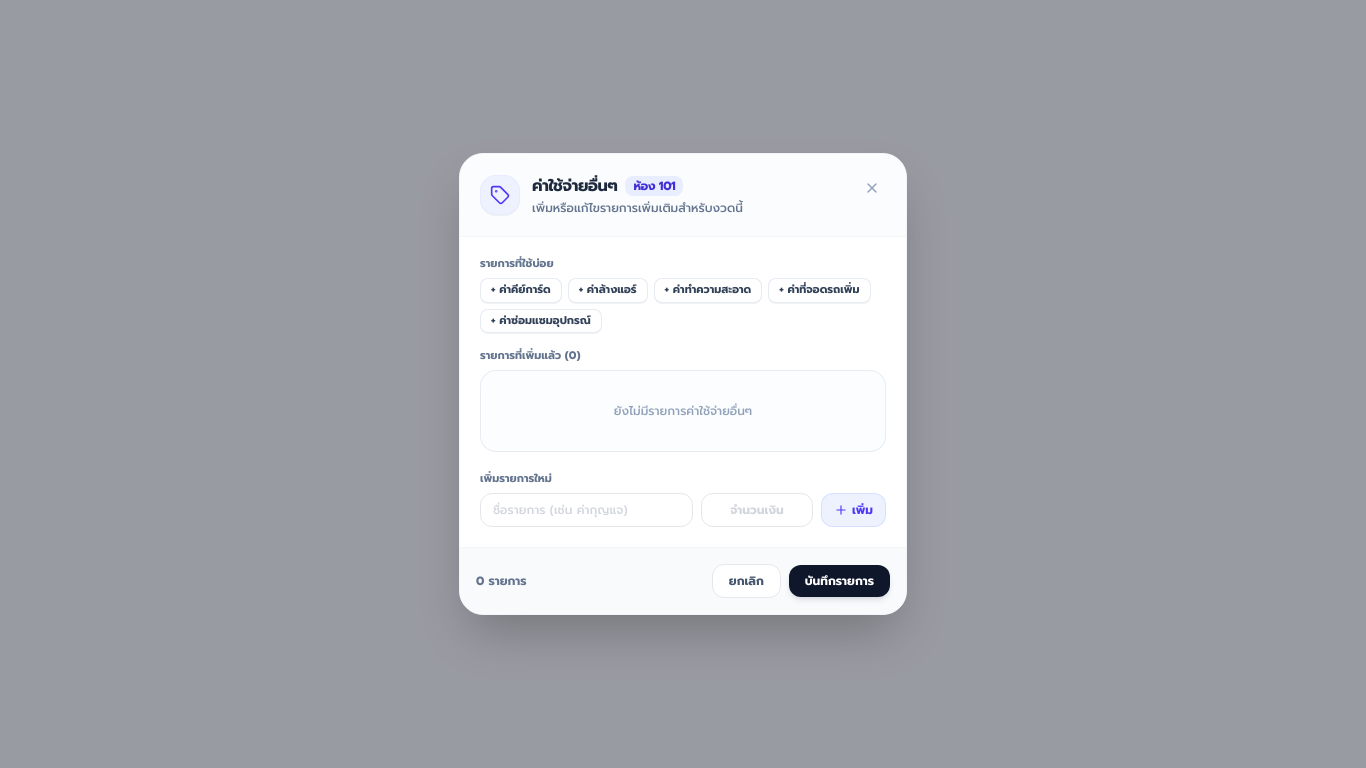
Test: HORPLUS LOCAL-07 — Shared Other Fees Modal UX/UI Suite (Batch C) › C6. Presets populate description input correctly
Step 1. Click the button "+ ค่าคีย์การ์ด" → coordinates (521, 290), box [480, 278, 562, 303]
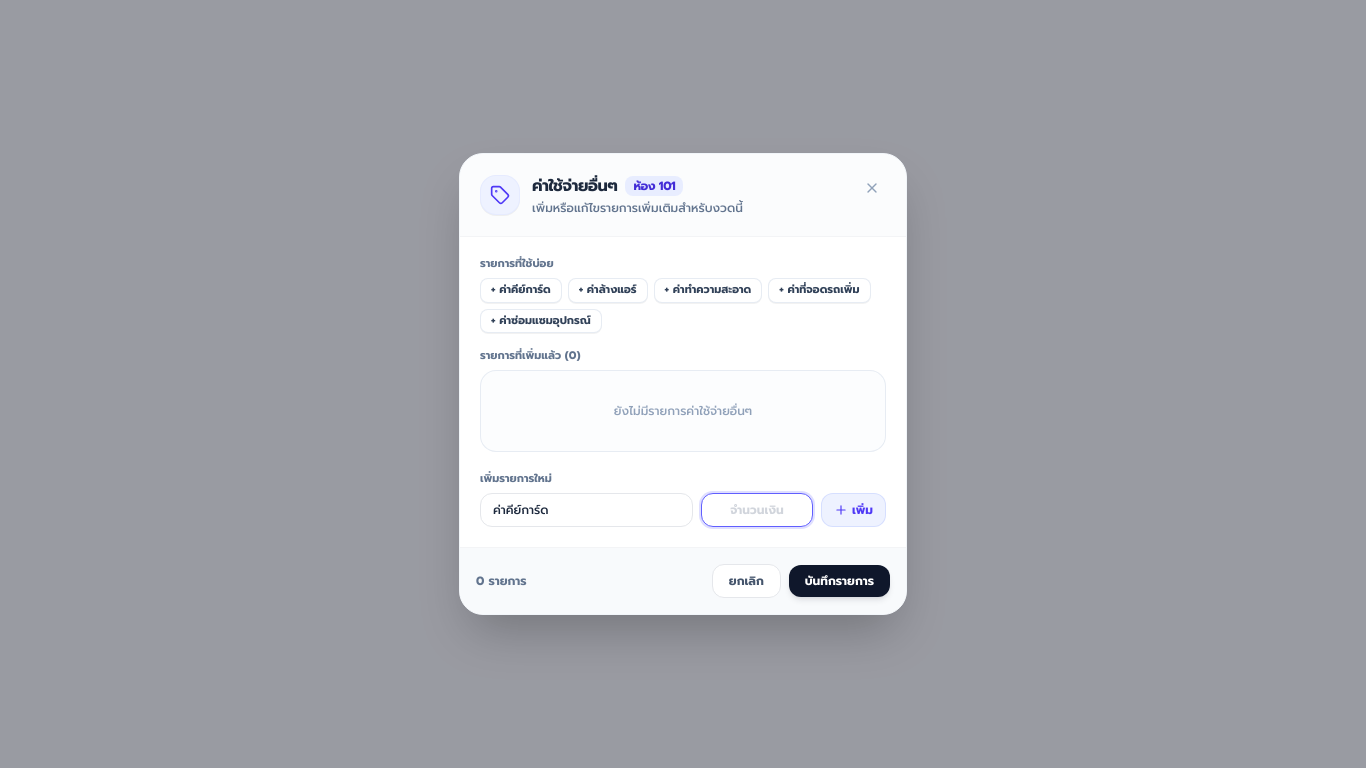
Expected: the field with placeholder "ชื่อรายการ (เช่น ค่ากุญแจ)" holds "ค่าคีย์การ์ด", [480, 493, 693, 527]
